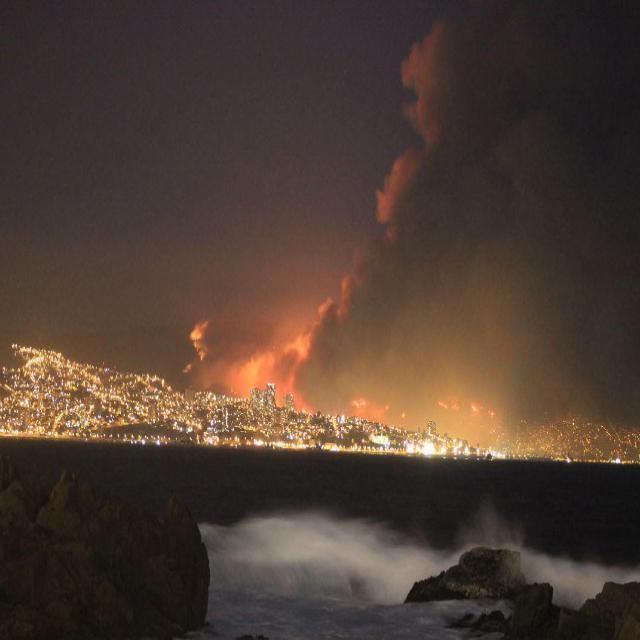Fire: (182, 324, 206, 371), (468, 400, 498, 419), (438, 397, 460, 415), (352, 397, 368, 407), (401, 410, 406, 419), (385, 402, 389, 409)
